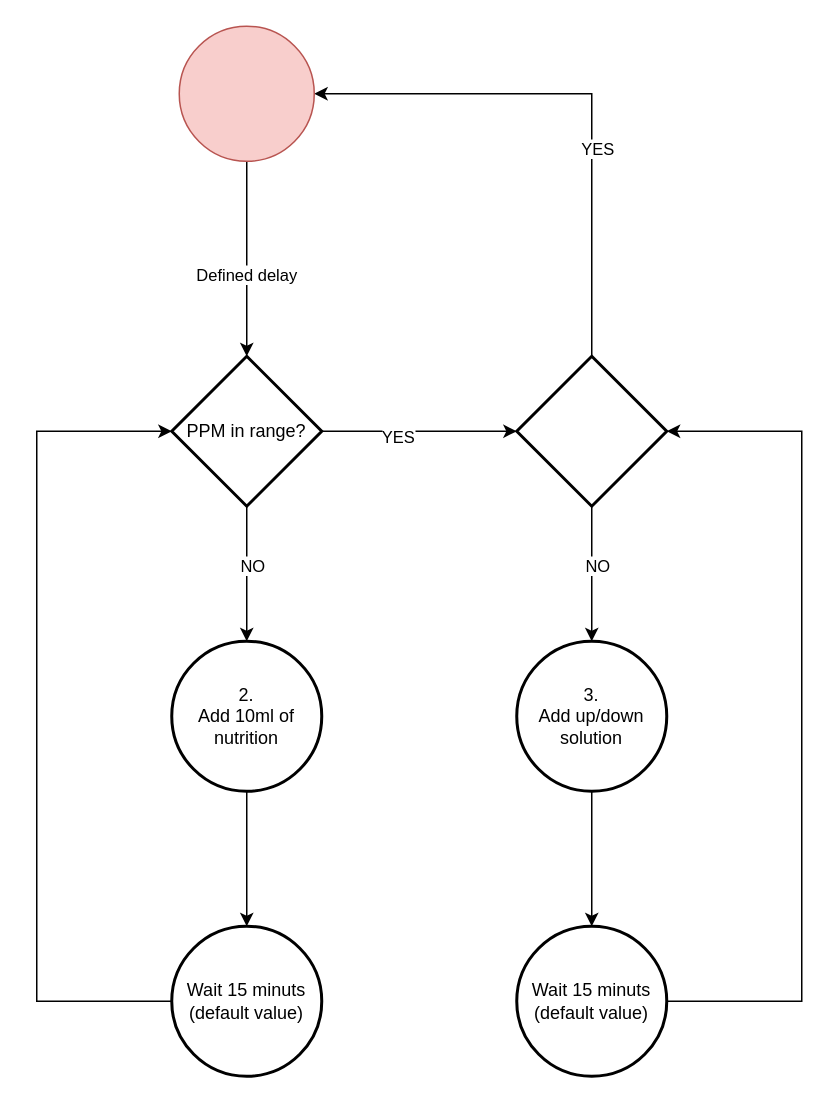
Some shapes in this 840 by 1104 pixel diagram are drawn without their labels. Each missing label, with the centre of its shape:
pH in range?: (x=591, y=430)
Stand by: (x=246, y=93)
